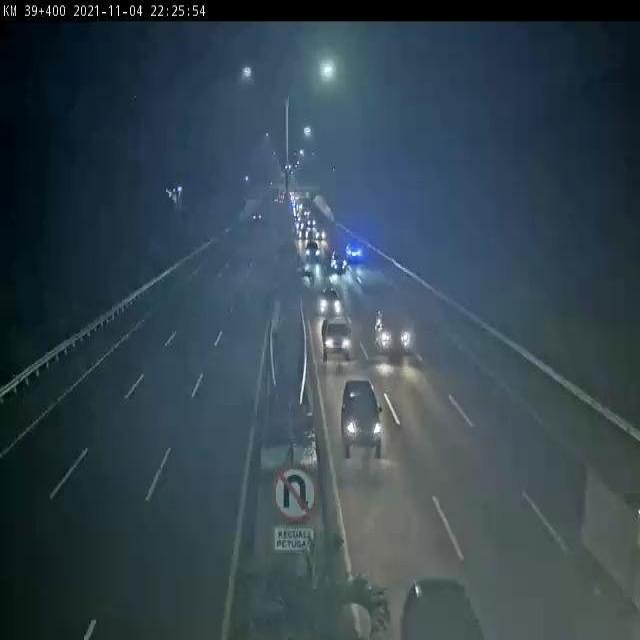car: (402, 565, 486, 640), (336, 376, 384, 465), (373, 307, 424, 356), (320, 312, 354, 368), (316, 285, 345, 319), (329, 248, 350, 275), (345, 236, 364, 265), (304, 240, 322, 264)
truck-s-: (582, 462, 640, 618)
